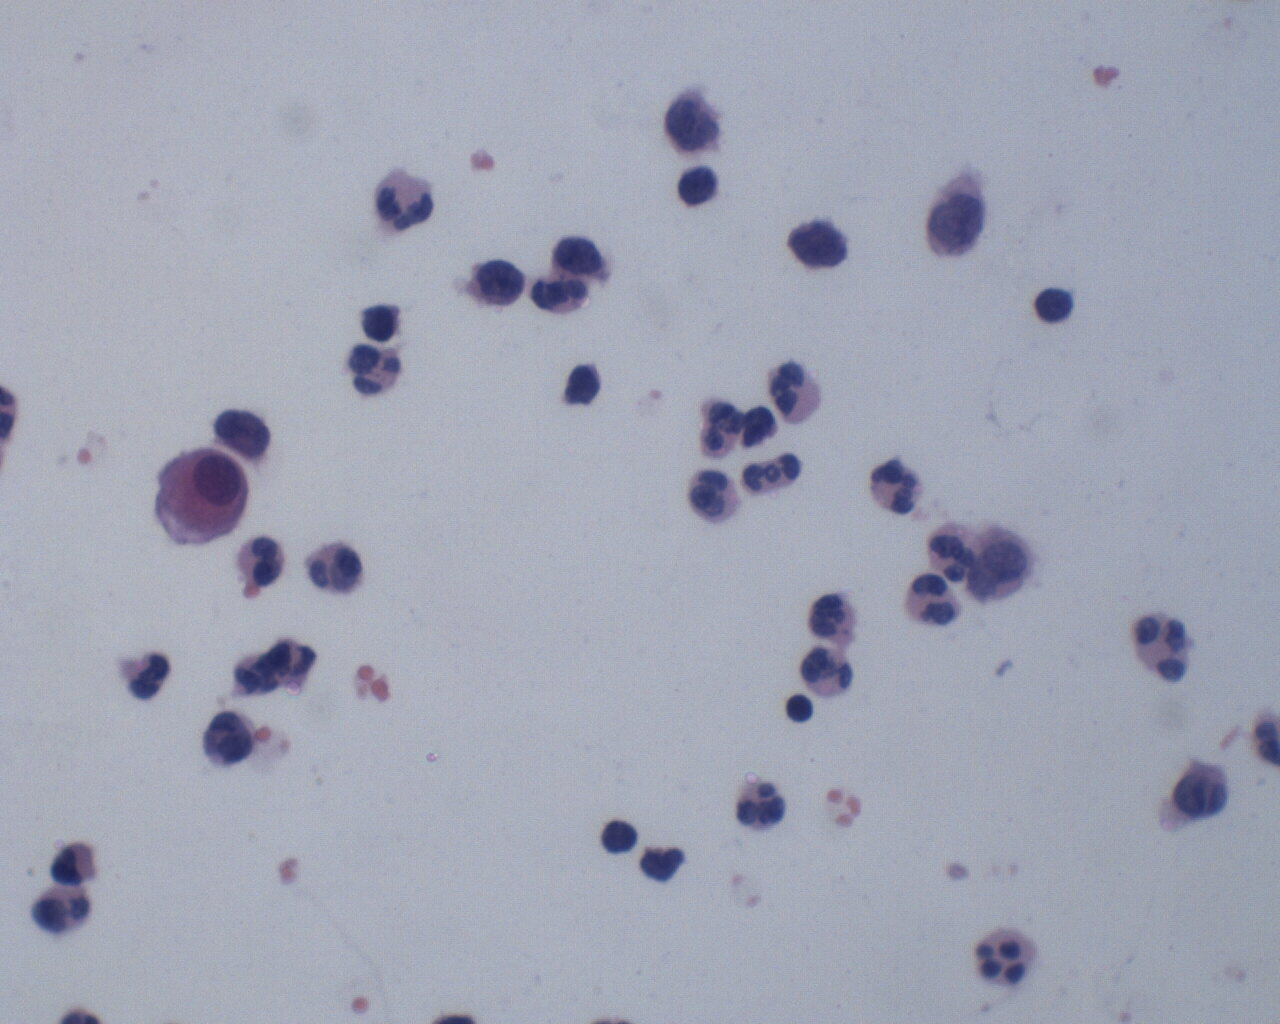ab: (656, 85, 732, 152), (462, 252, 529, 315)
lymph: (1030, 282, 1084, 328), (671, 160, 719, 209), (598, 816, 644, 857), (781, 691, 828, 728)
meso: (148, 444, 254, 545)
neutro: (971, 925, 1046, 995), (1131, 608, 1198, 684), (764, 351, 824, 428), (866, 452, 927, 523), (340, 338, 406, 398), (923, 519, 980, 587), (727, 776, 791, 834), (301, 540, 367, 596), (680, 465, 740, 526), (905, 572, 964, 631), (237, 530, 288, 594)
